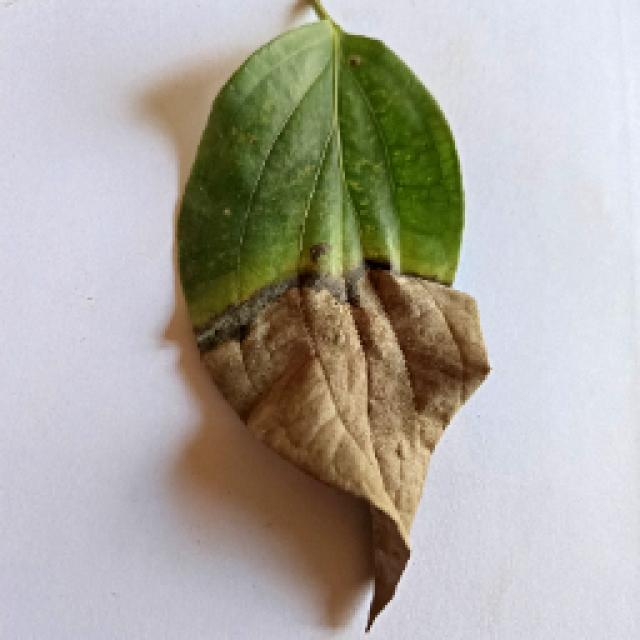footrot: (175, 8, 485, 630)
